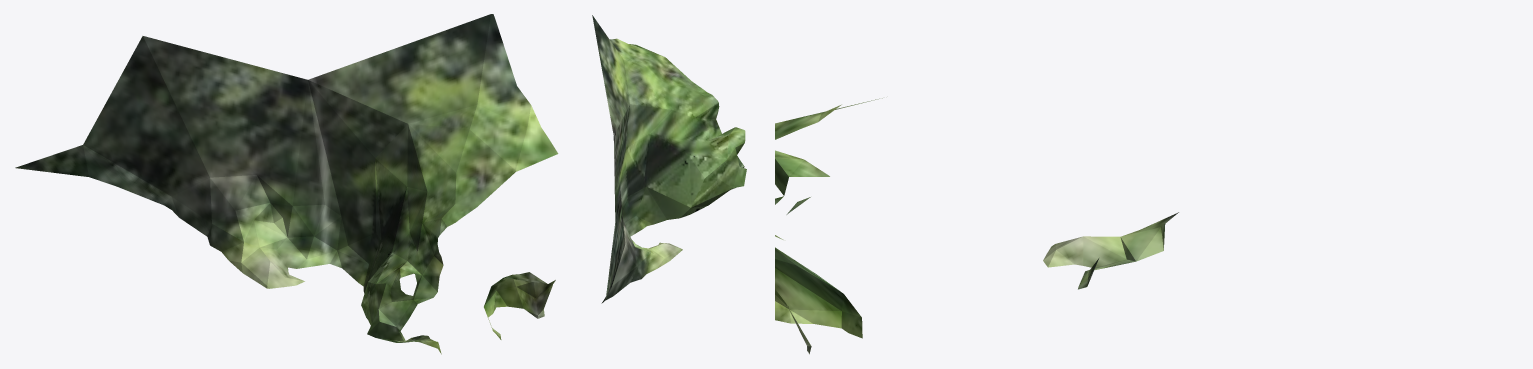
3 views of the same model, side by side, from view 1: azimuth 30°, elevation 25°; view 2: azimuth 150°, elevation 25°; view 3: azimuth 270°, elevation 25° (orthographic). The views are drawn at different scales.
Size of the model in its own units: 10.59 by 10.91 by 22.27.
Materials: 1 (1 with a texture image).
